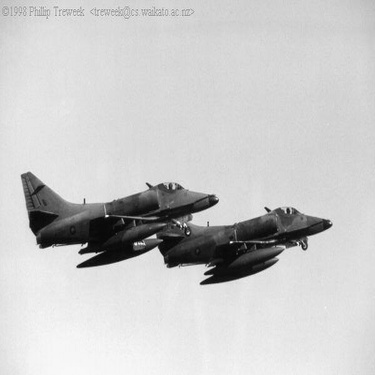airplane: (9, 164, 225, 266), (151, 198, 338, 291)
